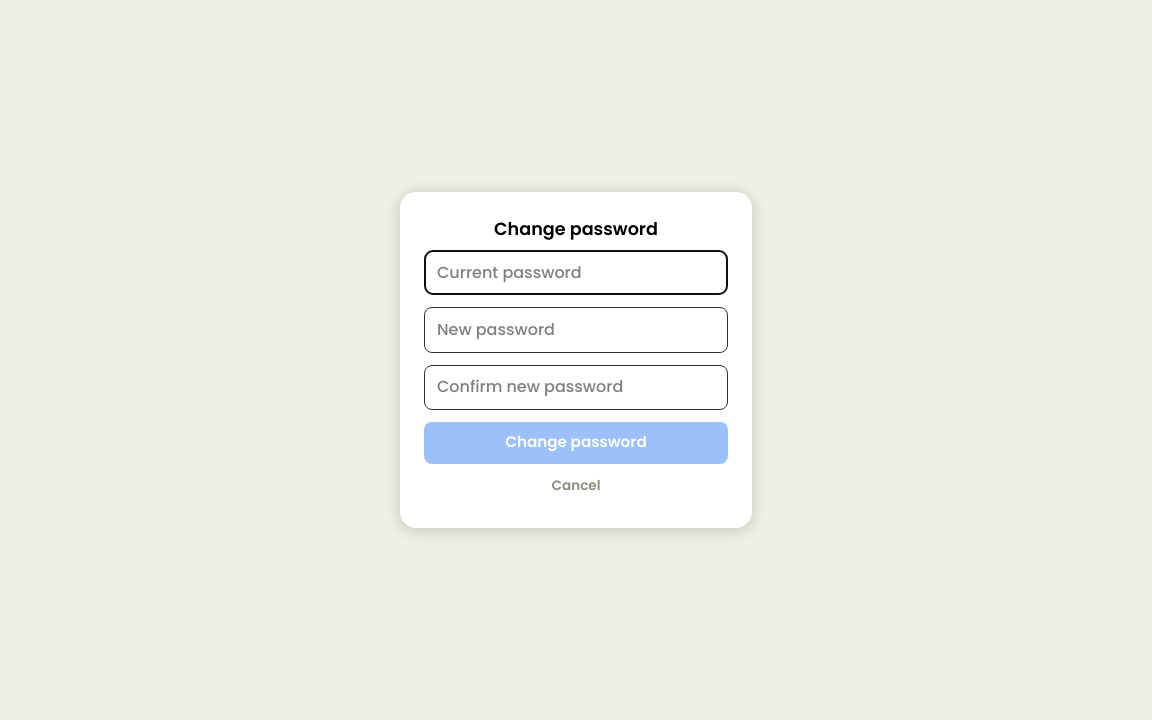
it: ChangePasswordDialog › shows a fixed failure message and clears every field after a refusal
Type "wrong-password" into the password field with placeholder "Current password".
click(576, 273); type("wrong-password")  # box x1=424 y1=250 x2=728 y2=295
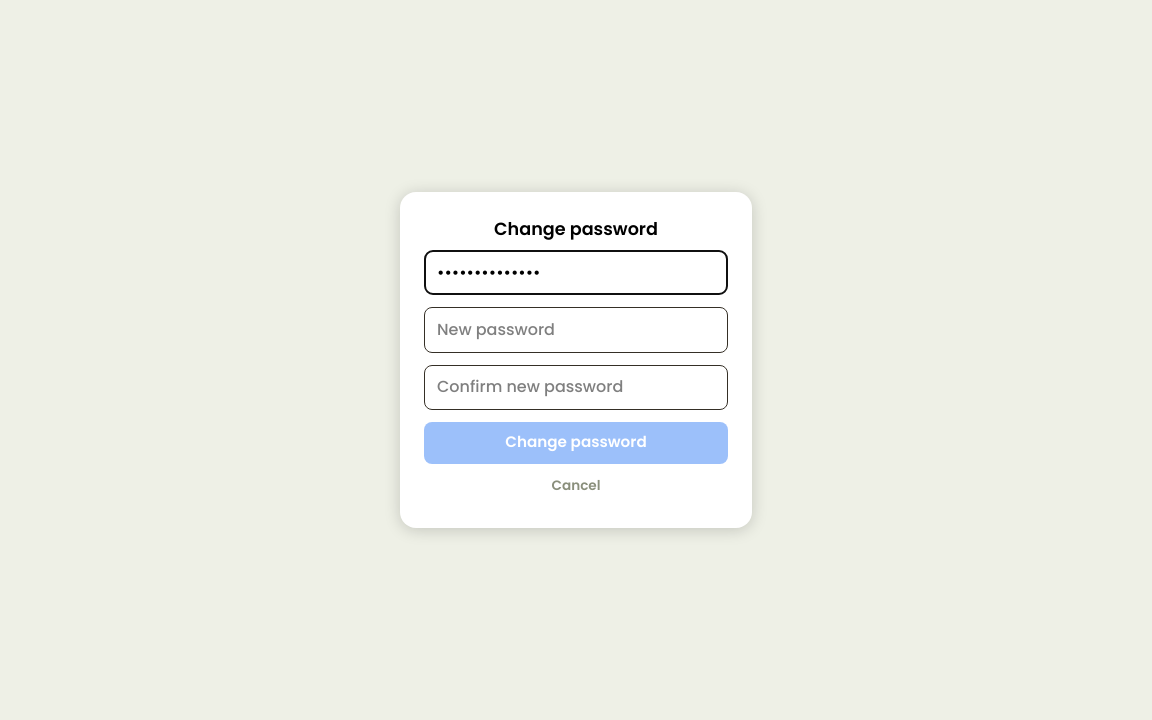
Type "new-password-1" into the password field with placeholder "New password".
click(576, 330); type("new-password-1")  # box x1=424 y1=307 x2=728 y2=353
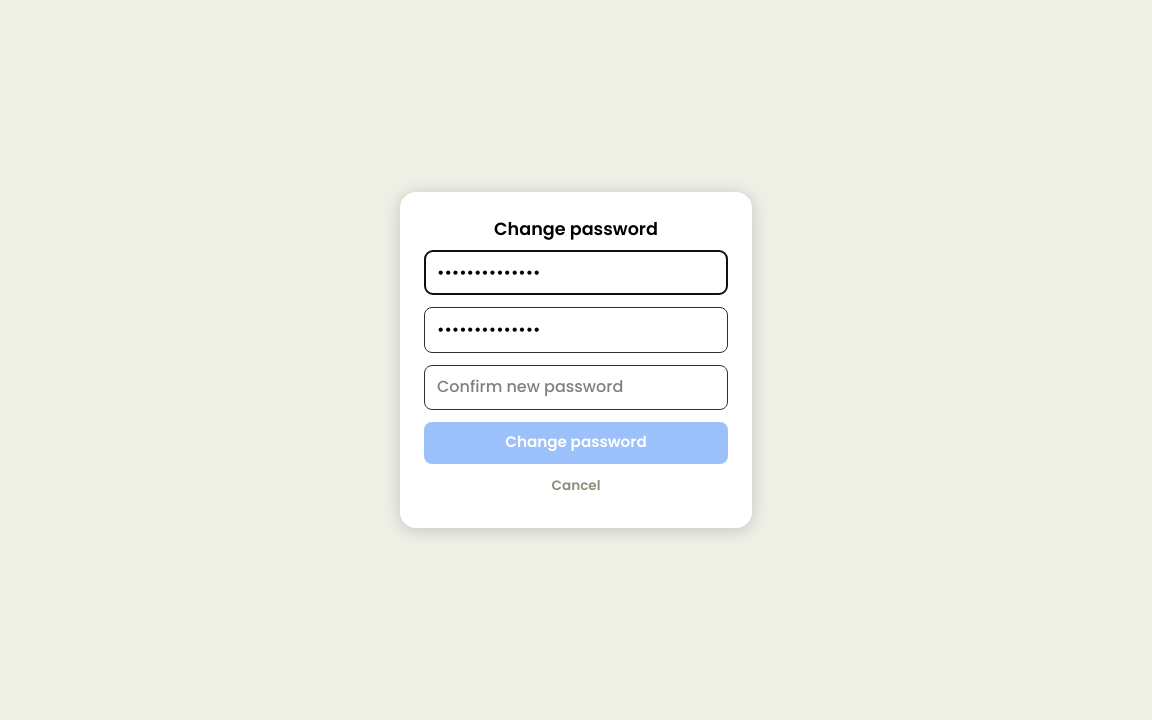
Type "new-password-1" into the password field with placeholder "Confirm new password".
click(576, 387); type("new-password-1")  # box x1=424 y1=365 x2=728 y2=410
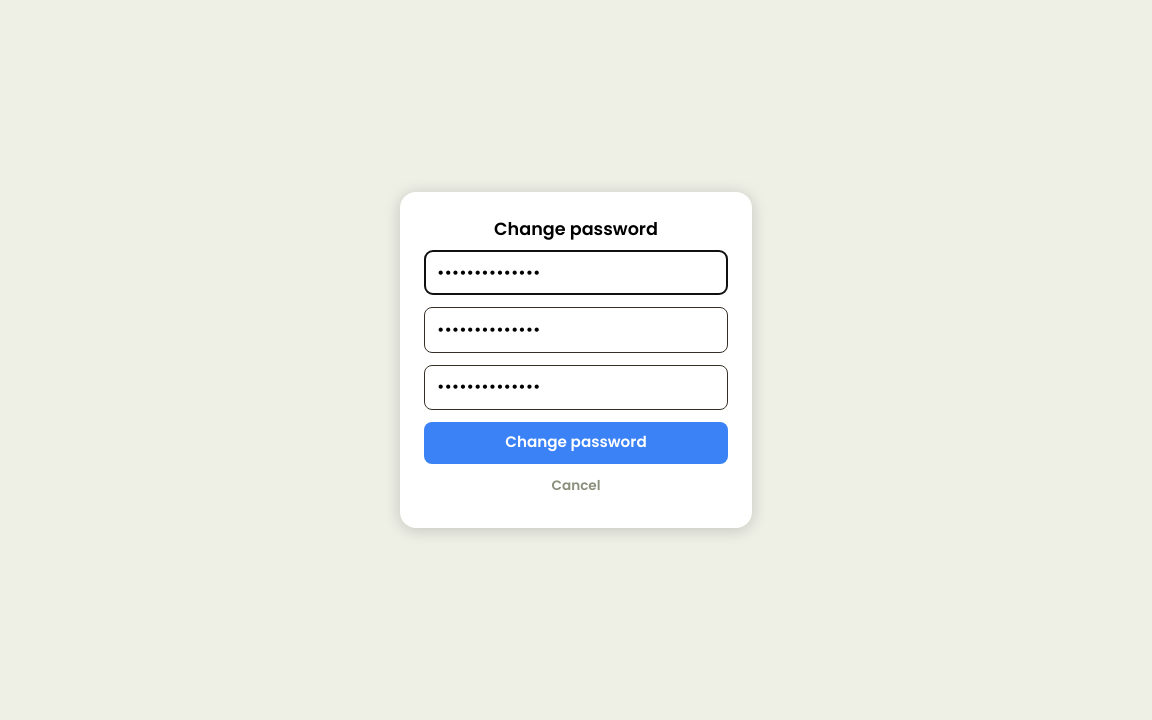
Submit the form "Change password", box x1=400 y1=192 x2=752 y2=528
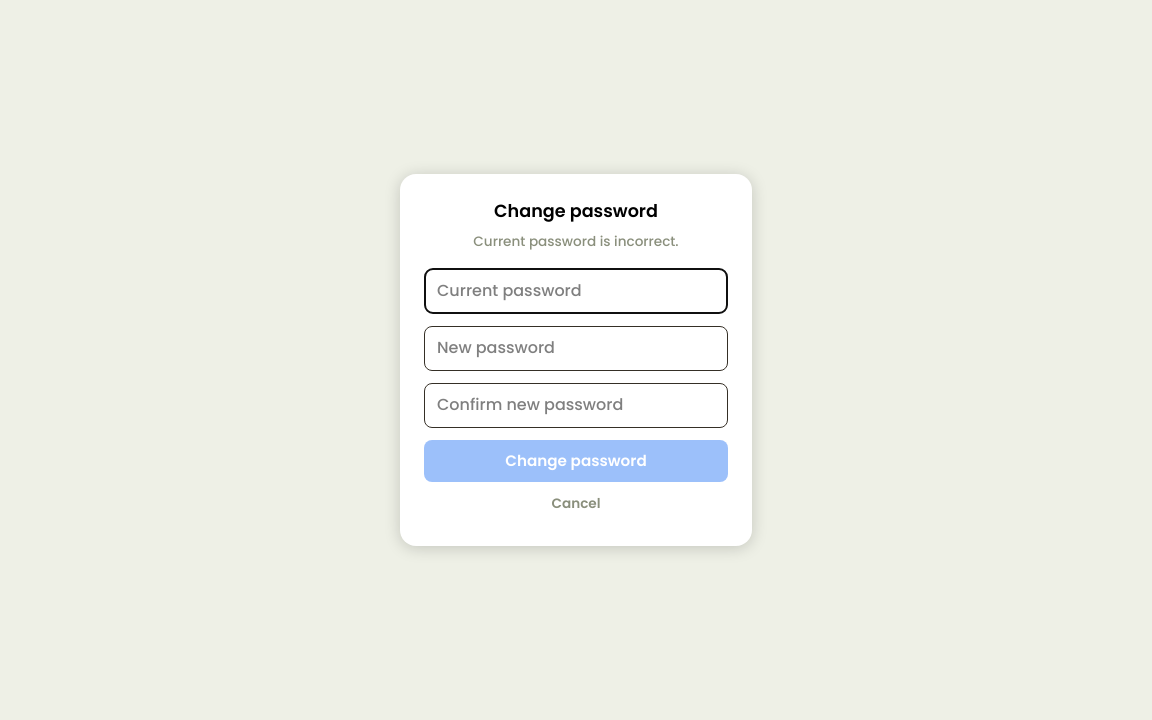
Result: the text "Current password is incorrect." is shown at x1=473 y1=232 x2=679 y2=251
Result: the password field with placeholder "Current password" is empty at x1=424 y1=268 x2=728 y2=314
Result: the password field with placeholder "New password" is empty at x1=424 y1=326 x2=728 y2=371
